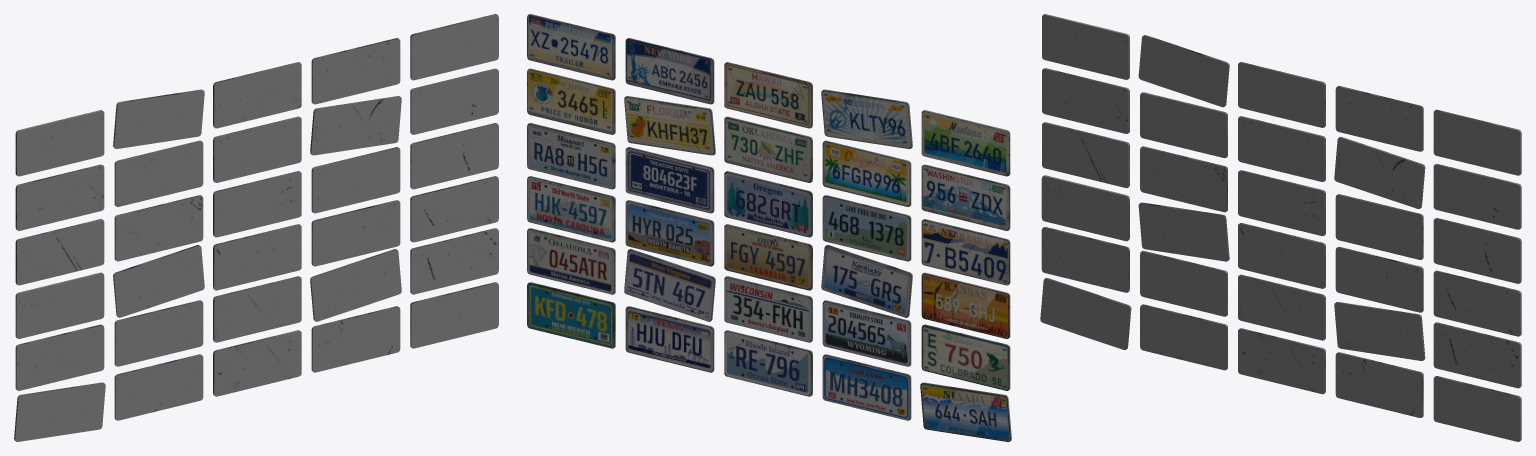
File: Prop_CarPlates_x4.fbx
3 views of the same model, side by side, from view 1: azimuth 30°, elevation 25°; view 2: azimuth 150°, elevation 25°; view 3: azimuth 330°, elevation 25° (orthographic).
Parts seen in each view (by area): view 1: Prop_CarPlates_x4; view 2: Prop_CarPlates_x4; view 3: Prop_CarPlates_x4.
Boxes of the visible parts, x1=… form: Prop_CarPlates_x4: x1=14, y1=14, x2=498, y2=441; Prop_CarPlates_x4: x1=527, y1=14, x2=1011, y2=441; Prop_CarPlates_x4: x1=1040, y1=14, x2=1521, y2=441.
Size of the model in its own units: 145 by 92.21 by 0.6109.
